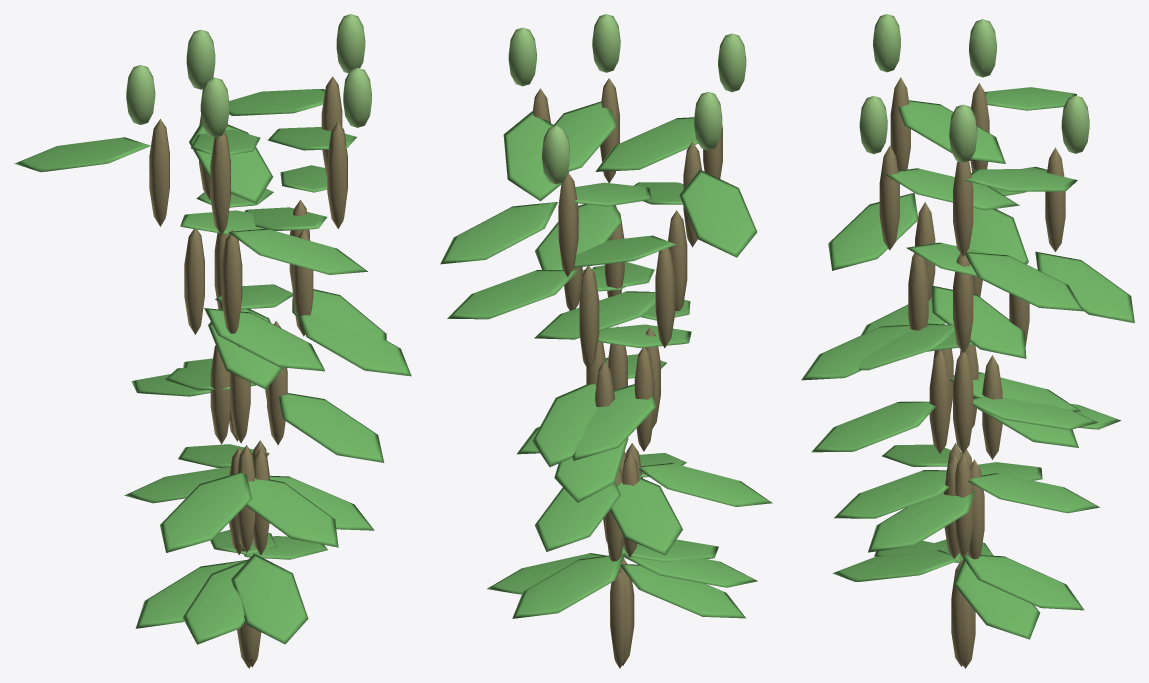
File: bud.glb
The picture shows the model from 3 angles, left to right: view 1: azimuth 30°, elevation 25°; view 2: azimuth 150°, elevation 25°; view 3: azimuth 270°, elevation 25°; orthographic projection. The views are drawn at different scales.
Size of the model in its own units: 1.08 by 2.12 by 1.04.
